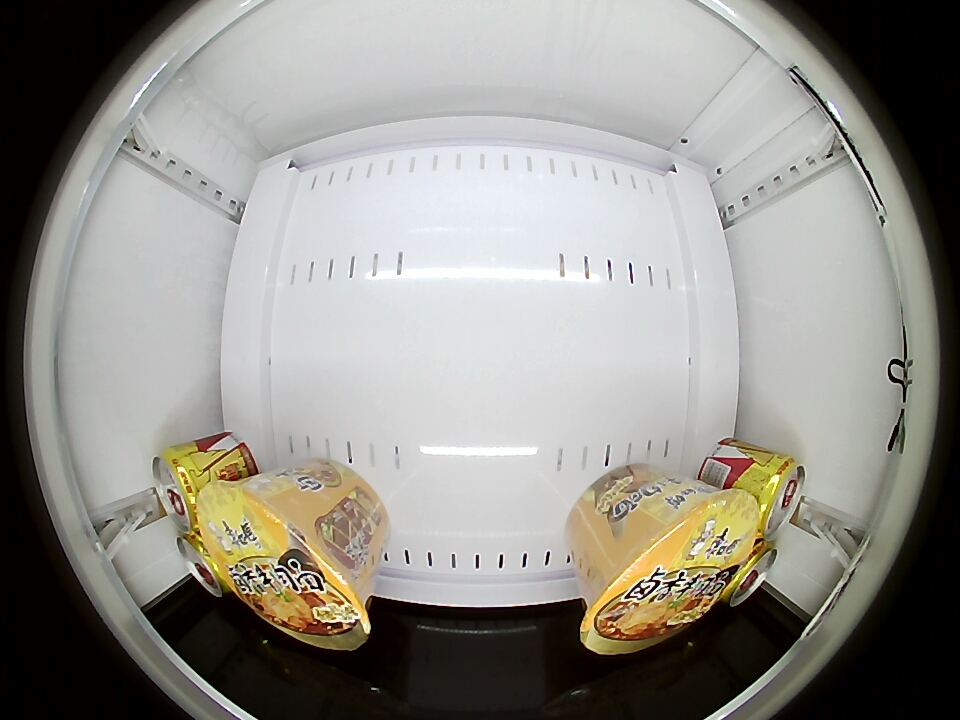dongpeng: (152, 443, 213, 534), (748, 454, 806, 540), (176, 531, 228, 599), (725, 542, 778, 607)
luxiangniurou: (197, 477, 372, 651), (582, 488, 757, 656)
